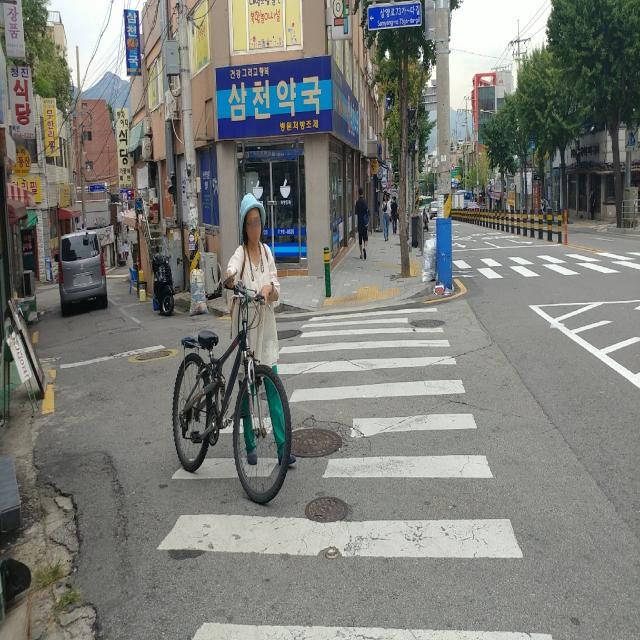횡단보도: (156, 306, 555, 639), (459, 252, 640, 271)
